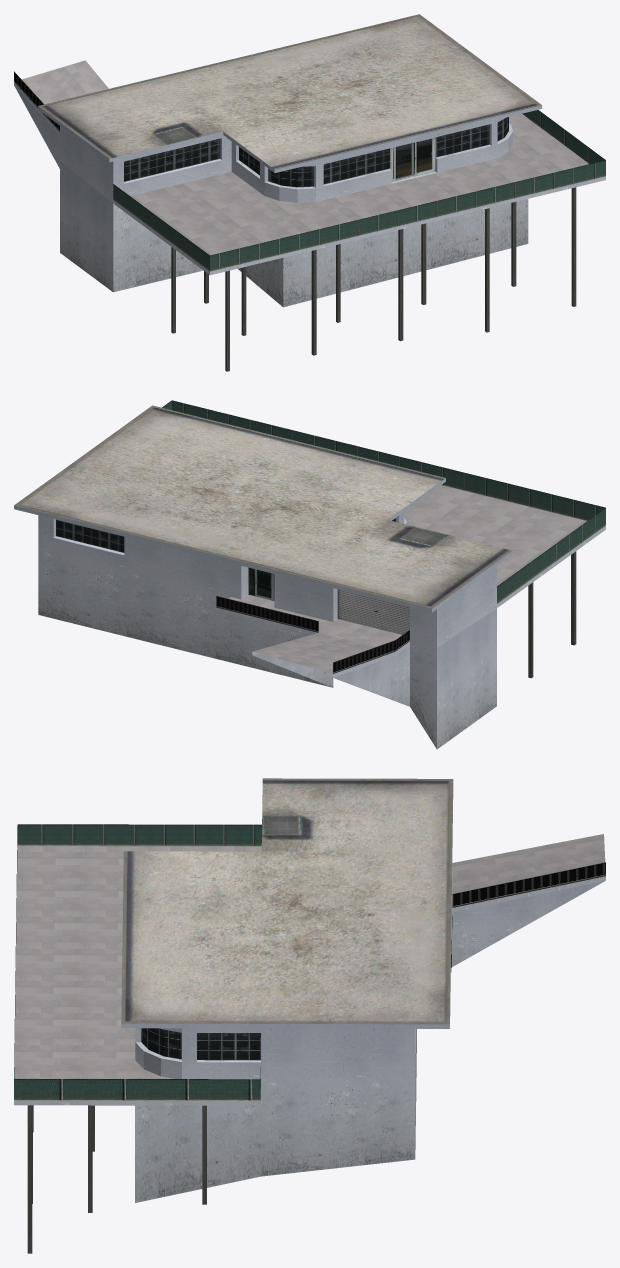
The model's file is tcehillhouse07.obj.
3 renders of one model, top to bottom at view 1: azimuth 30°, elevation 25°; view 2: azimuth 150°, elevation 25°; view 3: azimuth 270°, elevation 25°, orthographic. The views are drawn at different scales.
Visible parts, largest first — view 1: TCEhillhouse07; view 2: TCEhillhouse07; view 3: TCEhillhouse07.
Part boxes in pixels (x1,y1,x2,y2): TCEhillhouse07: [14, 14, 605, 371]; TCEhillhouse07: [14, 400, 605, 749]; TCEhillhouse07: [14, 778, 605, 1253].
Bounding box in the file's own units: 39.39 × 16.73 × 37.82.
